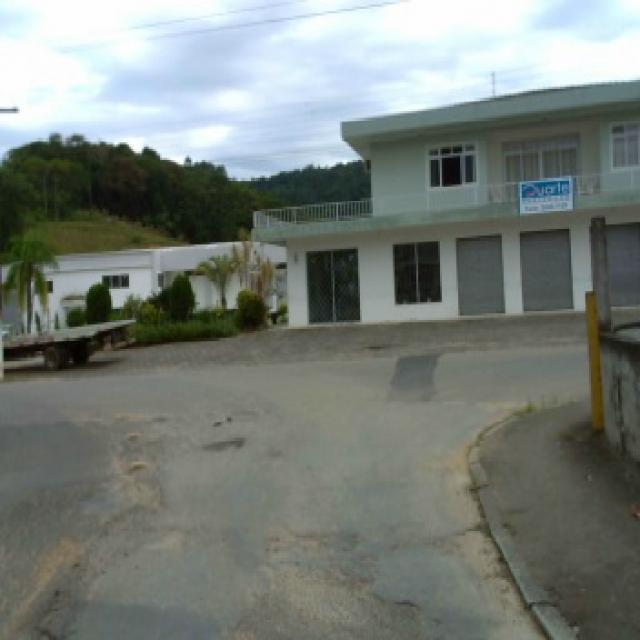Poth-hole: (351, 546, 444, 626), (71, 471, 165, 527), (26, 582, 68, 636), (198, 431, 247, 451), (211, 412, 231, 424), (130, 460, 146, 467), (150, 413, 166, 420)
